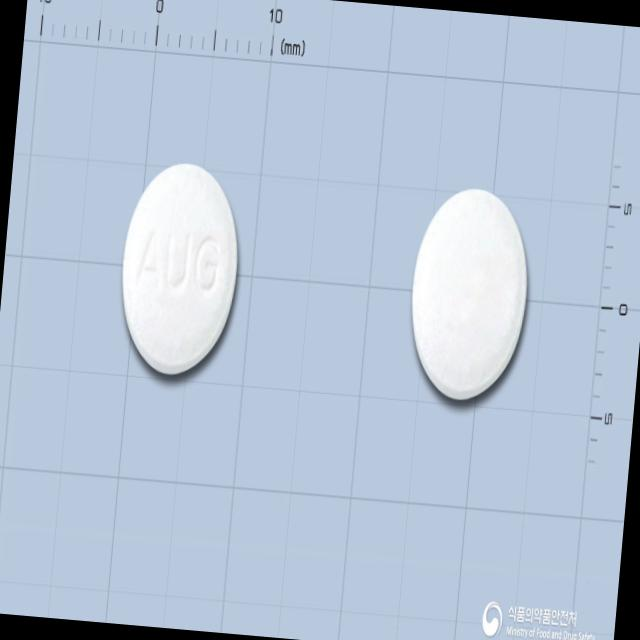Ilsung Augmentin - 625mg: (114, 156, 246, 380)
